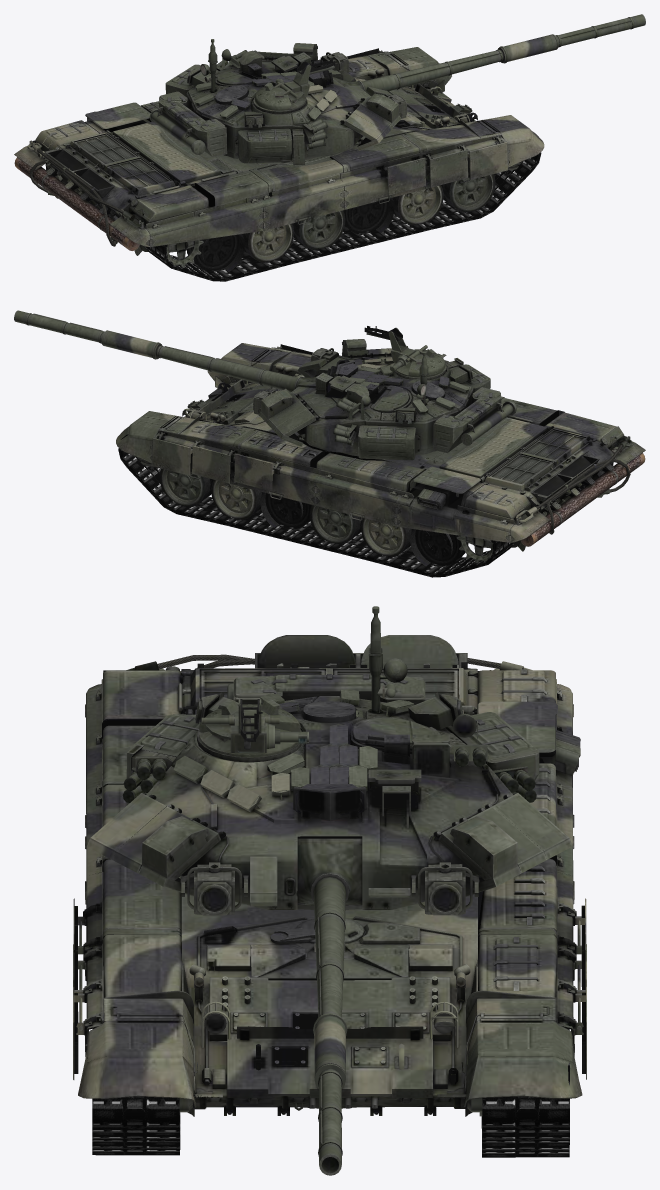
The model's file is tank.gltf.
The picture shows the model from 3 angles, top to bottom: view 1: azimuth 30°, elevation 25°; view 2: azimuth 150°, elevation 25°; view 3: azimuth 270°, elevation 25°; orthographic projection. The views are drawn at different scales.
Visible parts, largest first — view 1: Object_8; view 2: Object_8; view 3: Object_8.
Part boxes in pixels (left/top/right/bottom): Object_8: left=14, top=14, right=645, bottom=281; Object_8: left=14, top=310, right=645, bottom=577; Object_8: left=73, top=606, right=586, bottom=1175.
Size of the model in its own units: 192 by 56.35 by 74.38.
Materials: 2 (2 with a texture image).
